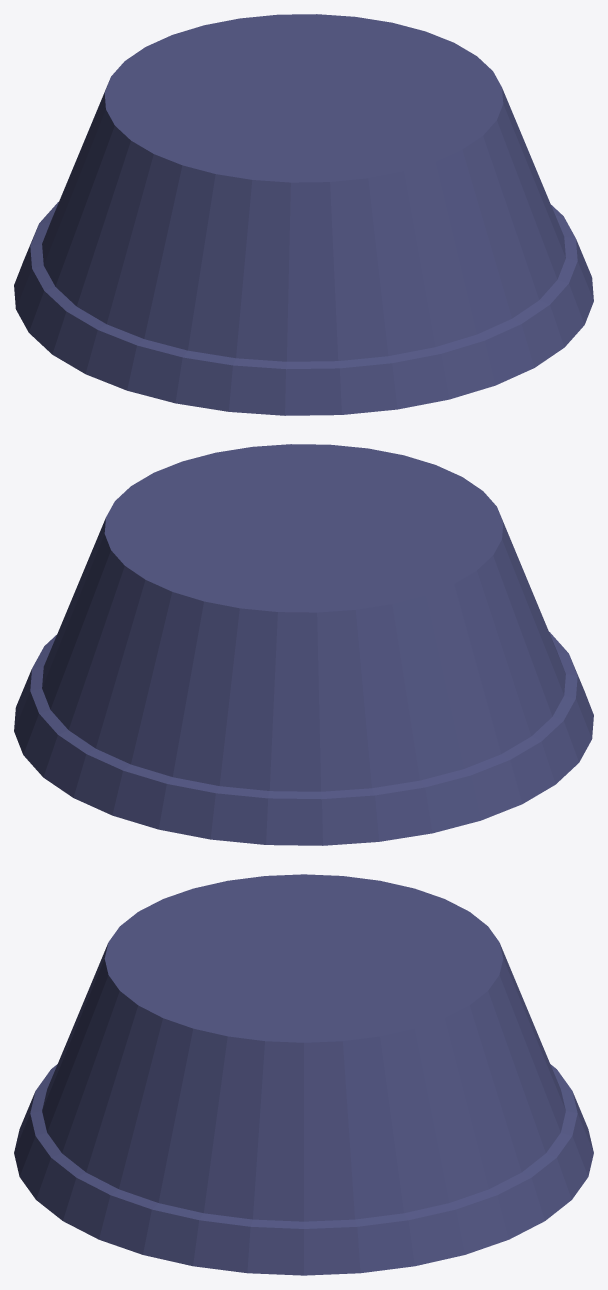
File: plinth_01.fbx
3 views of the same model, one above another, from view 1: azimuth 30°, elevation 25°; view 2: azimuth 150°, elevation 25°; view 3: azimuth 270°, elevation 25° (orthographic).
Visible parts, largest first — view 1: taso 1; view 2: taso 1; view 3: taso 1.
Part boxes in pixels (x1,y1,x2,y2): taso 1: (14,14,593,415); taso 1: (14,444,593,845); taso 1: (14,874,593,1275).
Bounding box in the file's own units: 135 × 50.06 × 135.
